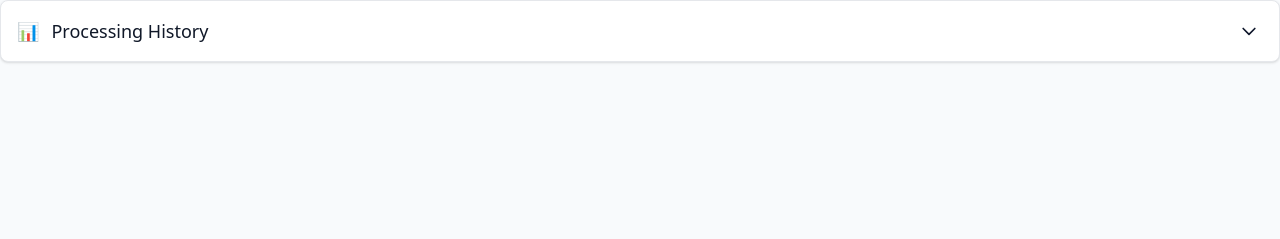
ProcessingPanel › falls back to a neutral badge for unknown run statuses
Click the heading "Processing History": (130, 31) [52, 17, 208, 45]
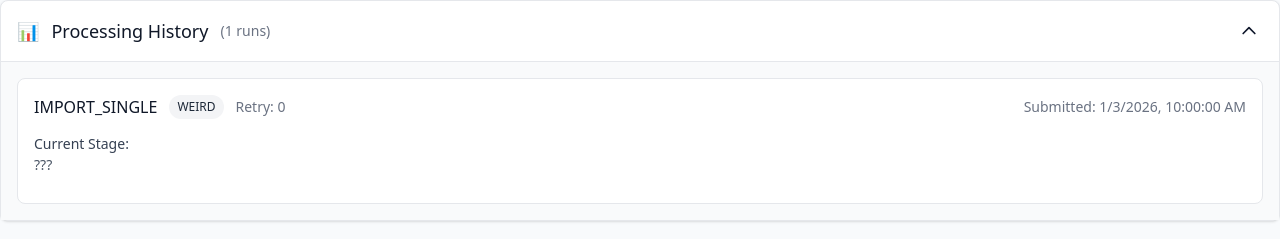
Now the text "WEIRD" is shown, box [169, 95, 224, 119]
